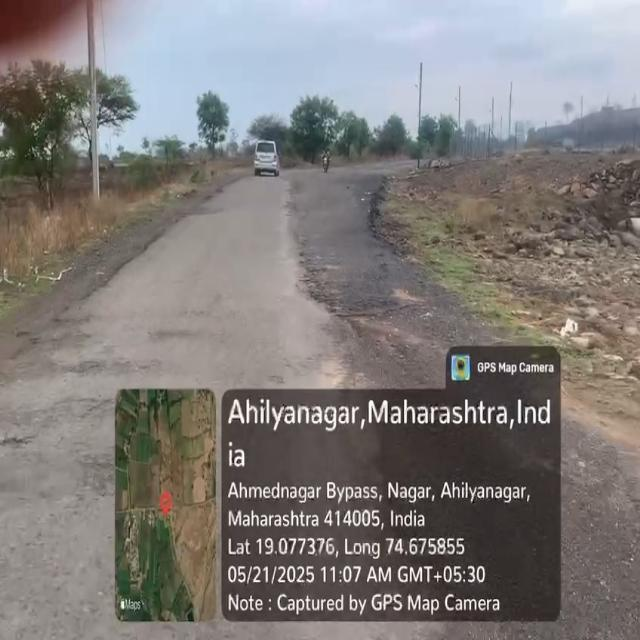damage surface: (282, 233, 444, 357), (56, 338, 171, 384), (7, 428, 39, 460)
